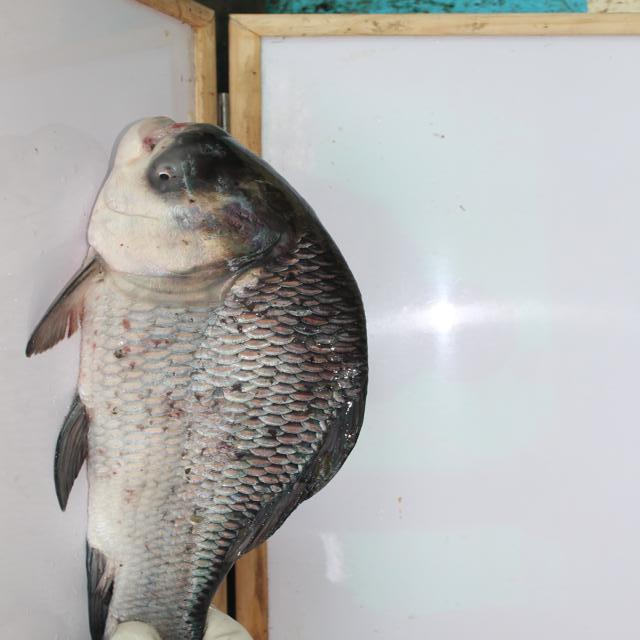Catla: (23, 114, 372, 640)
